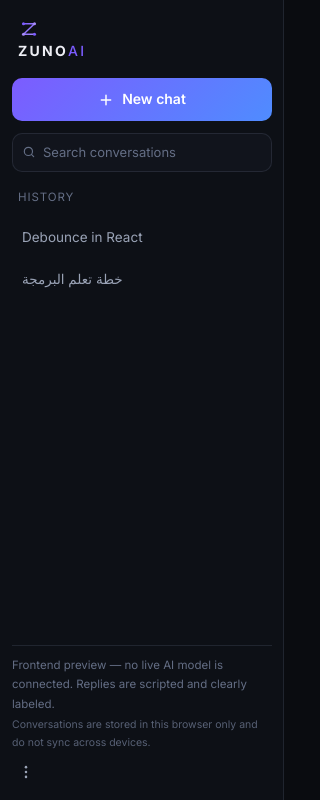
Test case: Sidebar kebab (more options → keyboard shortcuts) › opens the menu with focus on the shortcuts item; Escape closes and re-anchors on the kebab button
The width and height of the screenshot is (320, 800).
Click the button named "More options". click: (26,772)
box: [12,758,40,786]
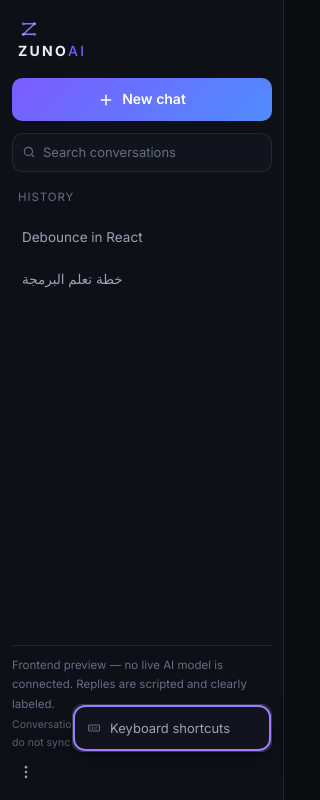
Press Escape
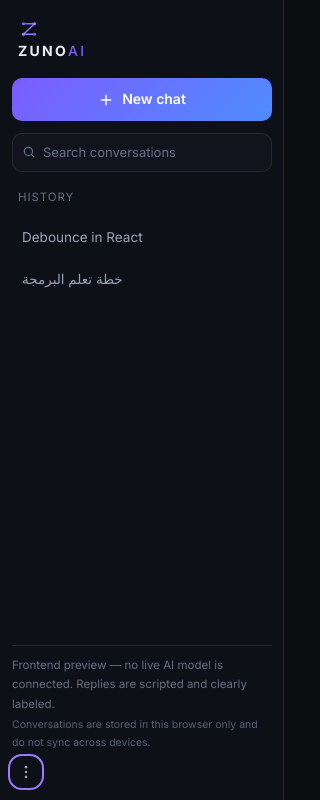
Expected: the menu is gone
